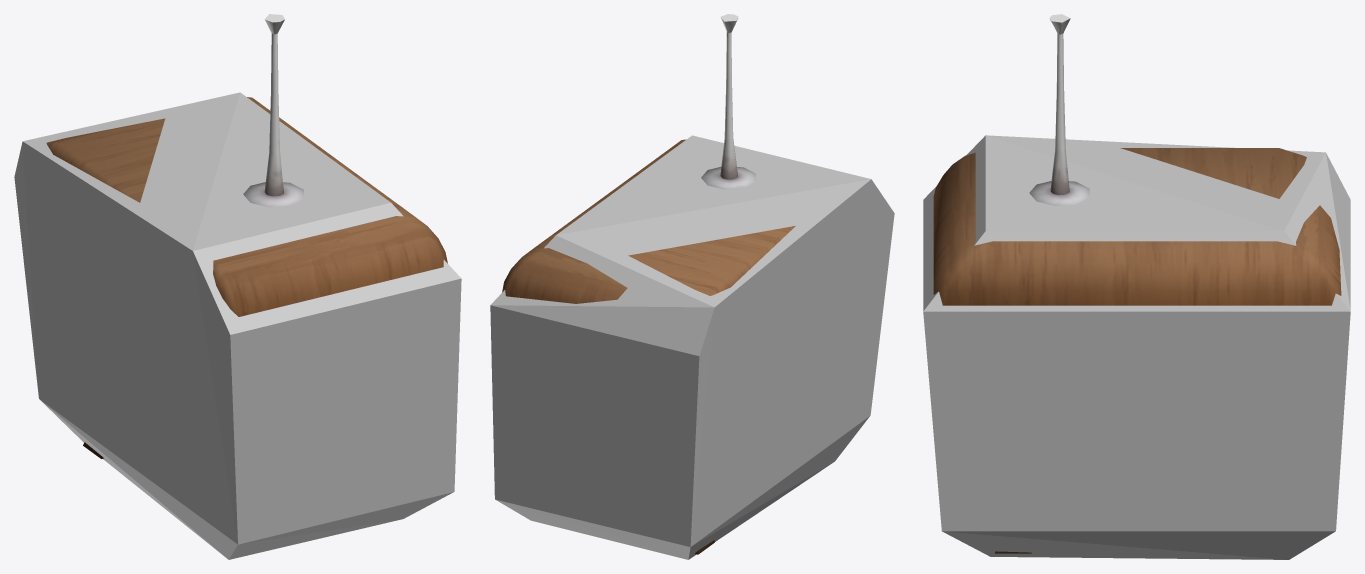
Rendered from SM_RadioOld01.fbx.
3 renders of one model, left to right at view 1: azimuth 30°, elevation 25°; view 2: azimuth 150°, elevation 25°; view 3: azimuth 270°, elevation 25°, orthographic. The views are drawn at different scales.
Parts seen in each view (by area): view 1: SM_RadioOld01_ConvexHulls, SM_RadioOld01; view 2: SM_RadioOld01_ConvexHulls, SM_RadioOld01; view 3: SM_RadioOld01_ConvexHulls, SM_RadioOld01.
Boxes of the visible parts, bbox=[...] form: SM_RadioOld01_ConvexHulls: bbox=[14, 92, 461, 559]; SM_RadioOld01: bbox=[46, 14, 447, 458]; SM_RadioOld01_ConvexHulls: bbox=[490, 135, 894, 559]; SM_RadioOld01: bbox=[502, 14, 795, 554]; SM_RadioOld01_ConvexHulls: bbox=[923, 135, 1350, 559]; SM_RadioOld01: bbox=[933, 14, 1341, 553].
Bounding box in the file's own units: 29.78 × 46.48 × 59.18.
Materials: 2 (1 with a texture image).
